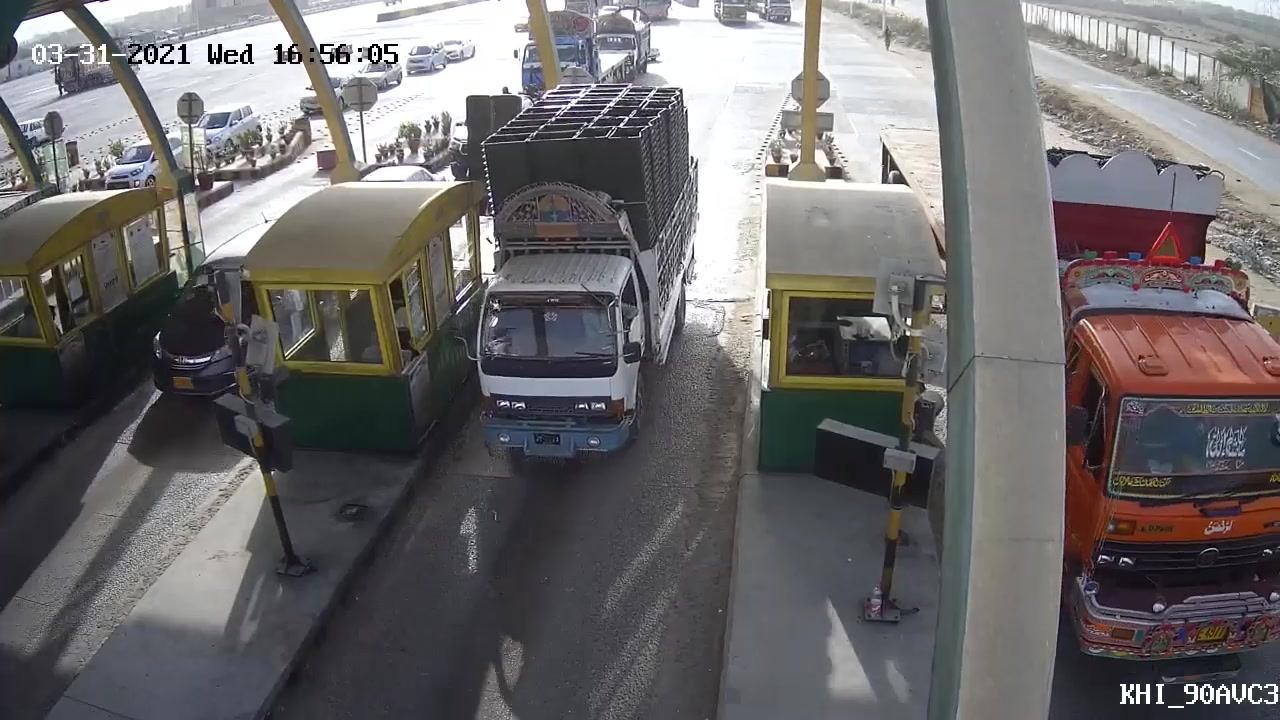F5: (459, 64, 703, 480)
